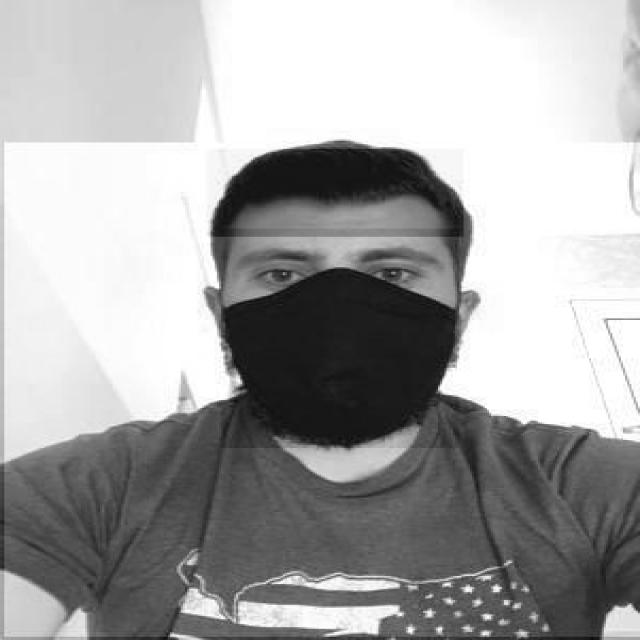face_mask: (221, 229, 459, 448)
head_nohelmet: (206, 149, 464, 237)
person: (2, 142, 640, 638)
